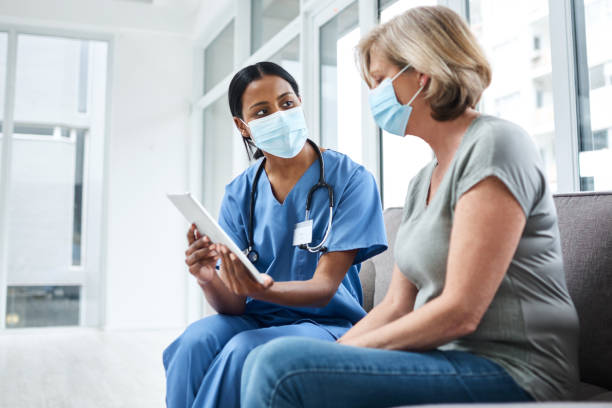with mask: (226, 71, 313, 161), (361, 47, 448, 137)
